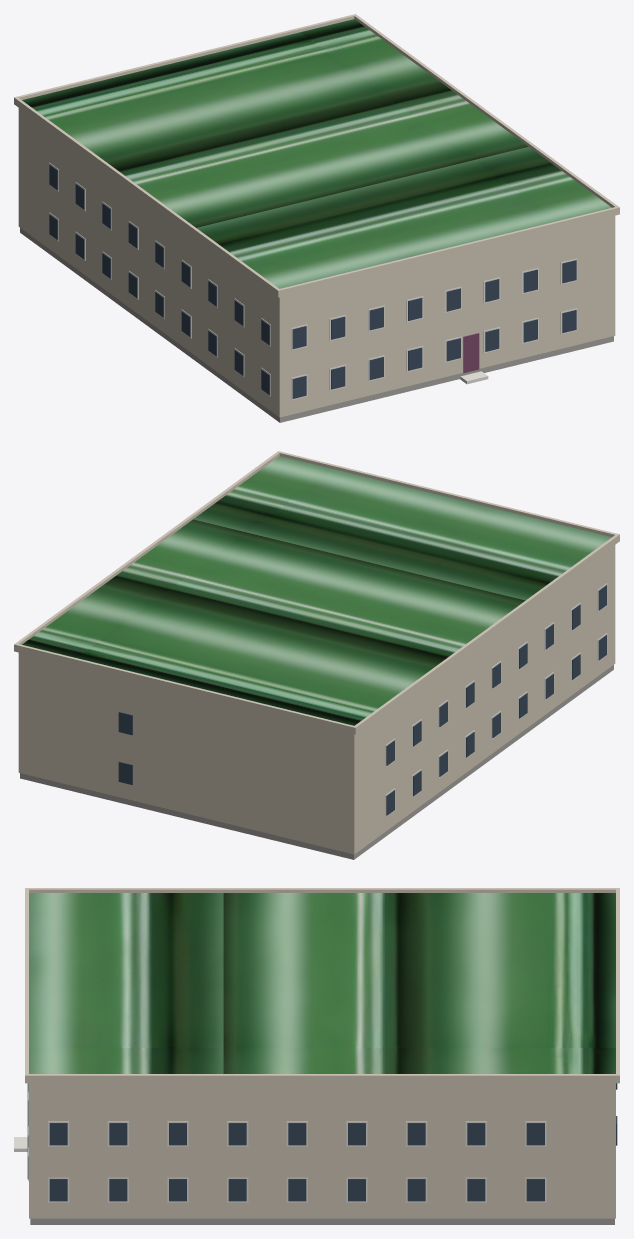
File: asset.glb
3 renders of one model, top to bottom at view 1: azimuth 30°, elevation 25°; view 2: azimuth 150°, elevation 25°; view 3: azimuth 270°, elevation 25°, orthographic. The views are drawn at different scales.
Parts seen in each view (by area): view 1: roof_slab, body, foundation, parapet, parapet.002, parapet.001, parapet.003, door; view 2: roof_slab, body, foundation, parapet.001, parapet.002, parapet, parapet.003; view 3: roof_slab, body, parapet.003, foundation, parapet.002, parapet, parapet.001.
Part boxes in pixels (bbox=[...]): roof_slab: bbox=[22, 19, 611, 288]; body: bbox=[18, 108, 615, 417]; foundation: bbox=[20, 228, 613, 422]; parapet: bbox=[277, 206, 619, 297]; parapet.002: bbox=[14, 96, 278, 297]; parapet.001: bbox=[14, 14, 356, 99]; parapet.003: bbox=[354, 15, 619, 207]; door: bbox=[463, 333, 479, 372]; roof_slab: bbox=[22, 456, 611, 725]; body: bbox=[18, 545, 615, 854]; foundation: bbox=[20, 665, 613, 859]; parapet.001: bbox=[14, 643, 356, 734]; parapet.002: bbox=[355, 534, 619, 734]; parapet: bbox=[277, 451, 619, 536]; parapet.003: bbox=[14, 451, 279, 644]; roof_slab: bbox=[29, 893, 615, 1073]; body: bbox=[29, 1083, 615, 1218]; parapet.003: bbox=[25, 1074, 619, 1083]; foundation: bbox=[30, 1218, 614, 1224]; parapet.002: bbox=[25, 888, 619, 892]; parapet: bbox=[25, 888, 28, 1082]; parapet.001: bbox=[616, 888, 619, 1075].
Bounding box in the file's own units: 20.84 × 7.85 × 28.45.
6 materials, 1 textured.
